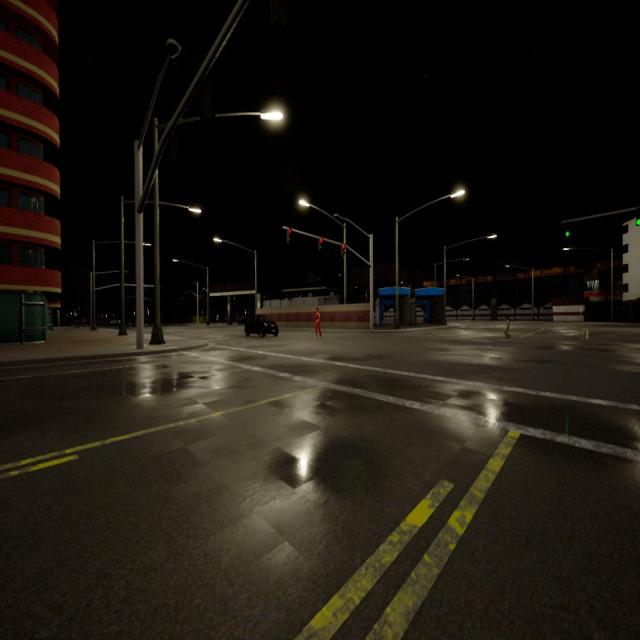Pedestrian: (315, 307, 321, 338), (504, 317, 510, 339)
Traffic_Signs: (579, 307, 583, 312)
Vehicle: (246, 316, 278, 336), (238, 316, 245, 324)
traffic_light: (203, 76, 214, 117), (564, 222, 573, 243), (632, 206, 640, 229), (287, 228, 291, 243), (319, 238, 323, 250), (342, 244, 346, 256)
